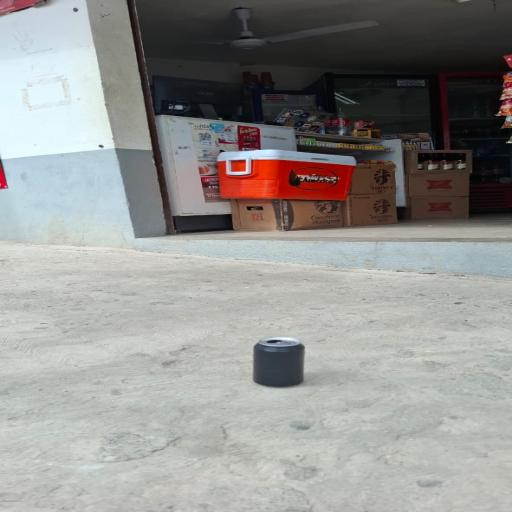LATA: (238, 330, 327, 394)
